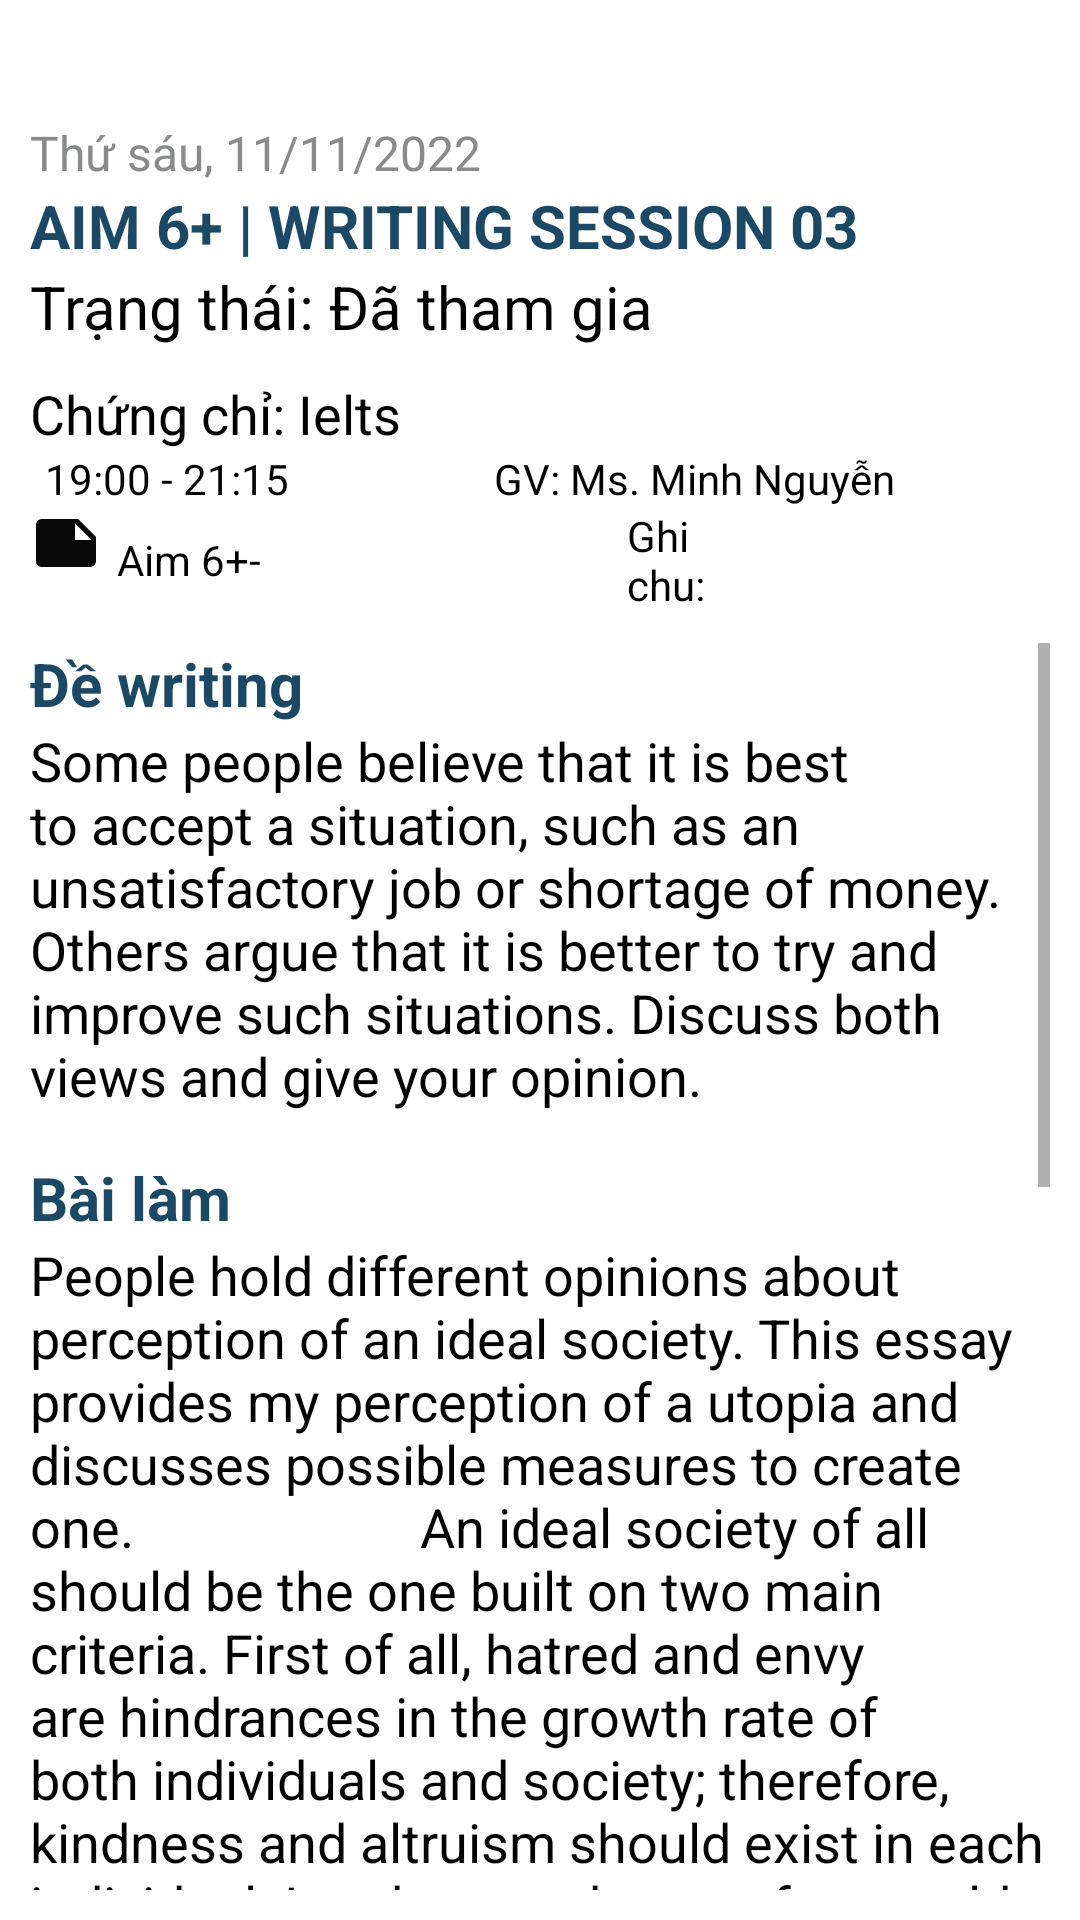

Where to tap for icons on this 1080px×1920px app screen, as (x,y):
note: (66,543)
